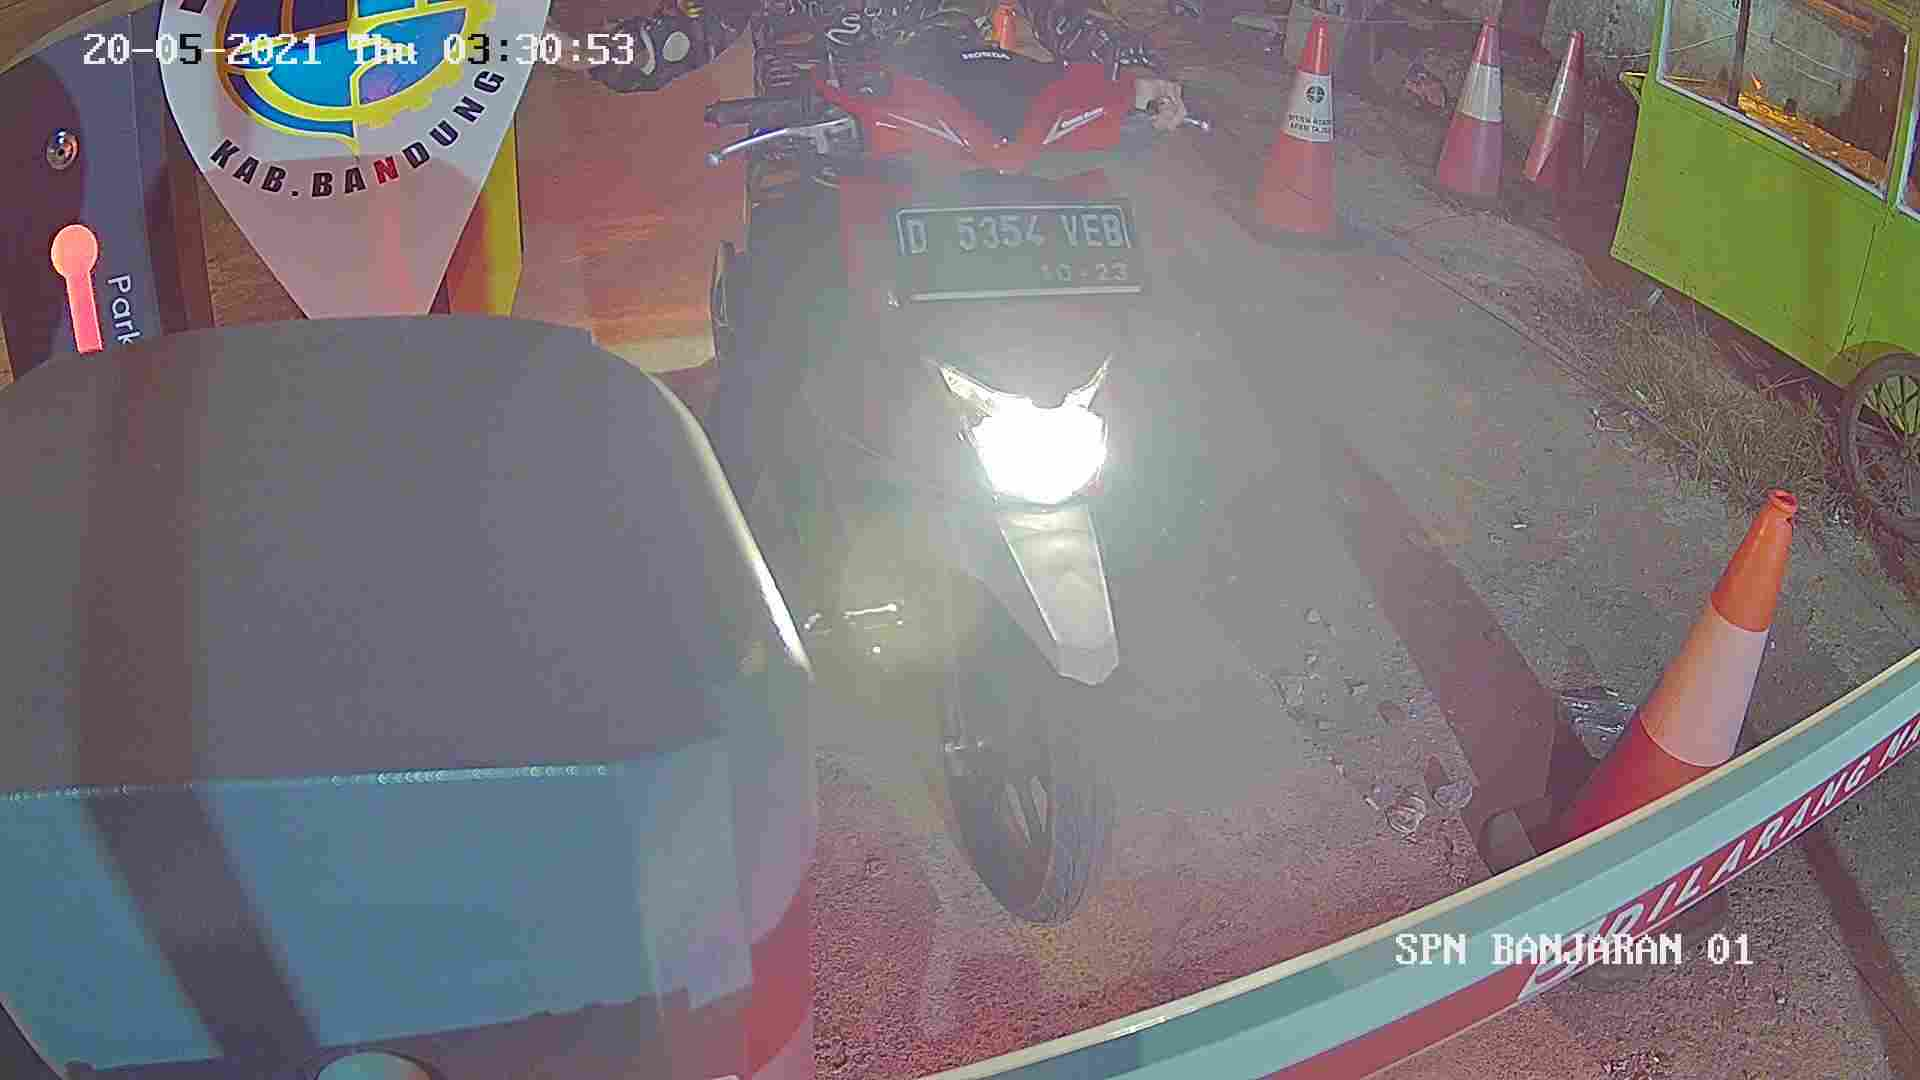motor: (733, 67, 1258, 942)
